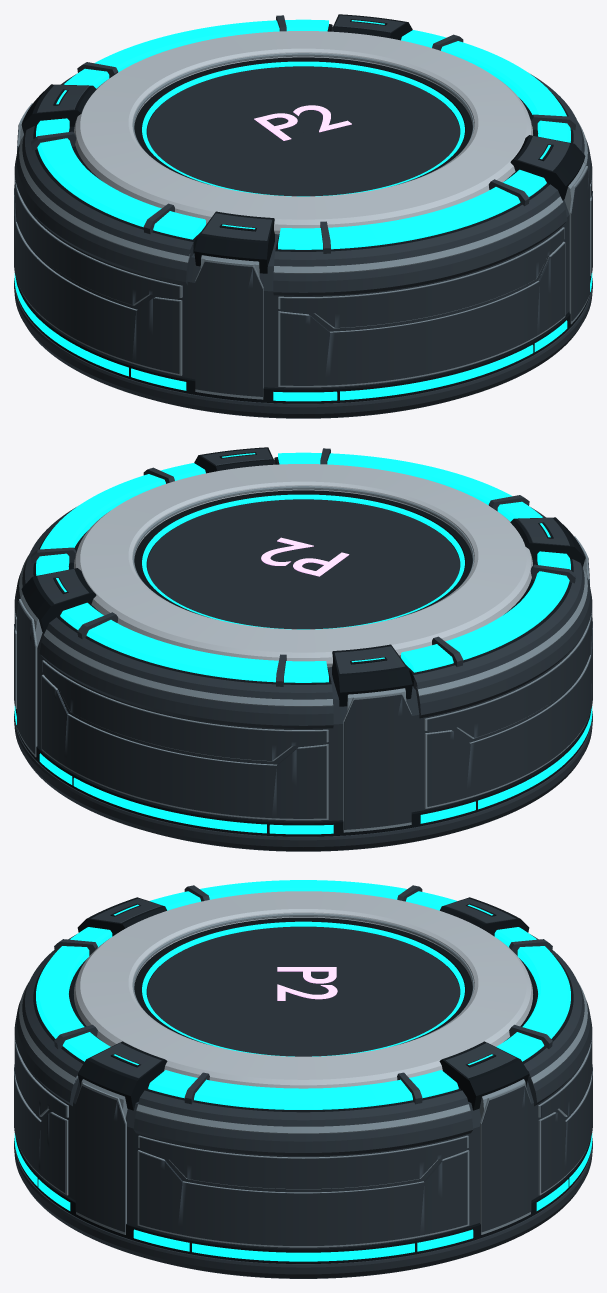
The model's file is Toppler.fbx.
3 renders of one model, top to bottom at view 1: azimuth 30°, elevation 25°; view 2: azimuth 150°, elevation 25°; view 3: azimuth 270°, elevation 25°, orthographic.
Visible parts, largest first — view 1: SM_Puck_Toppler_P2_HighDetail; view 2: SM_Puck_Toppler_P2_HighDetail; view 3: SM_Puck_Toppler_P2_HighDetail.
Part boxes in pixels (bbox=[...]): SM_Puck_Toppler_P2_HighDetail: bbox=[14, 14, 592, 418]; SM_Puck_Toppler_P2_HighDetail: bbox=[14, 447, 592, 851]; SM_Puck_Toppler_P2_HighDetail: bbox=[14, 880, 592, 1278].
Size of the model in its own units: 90.3 by 90.3 by 30.7.
